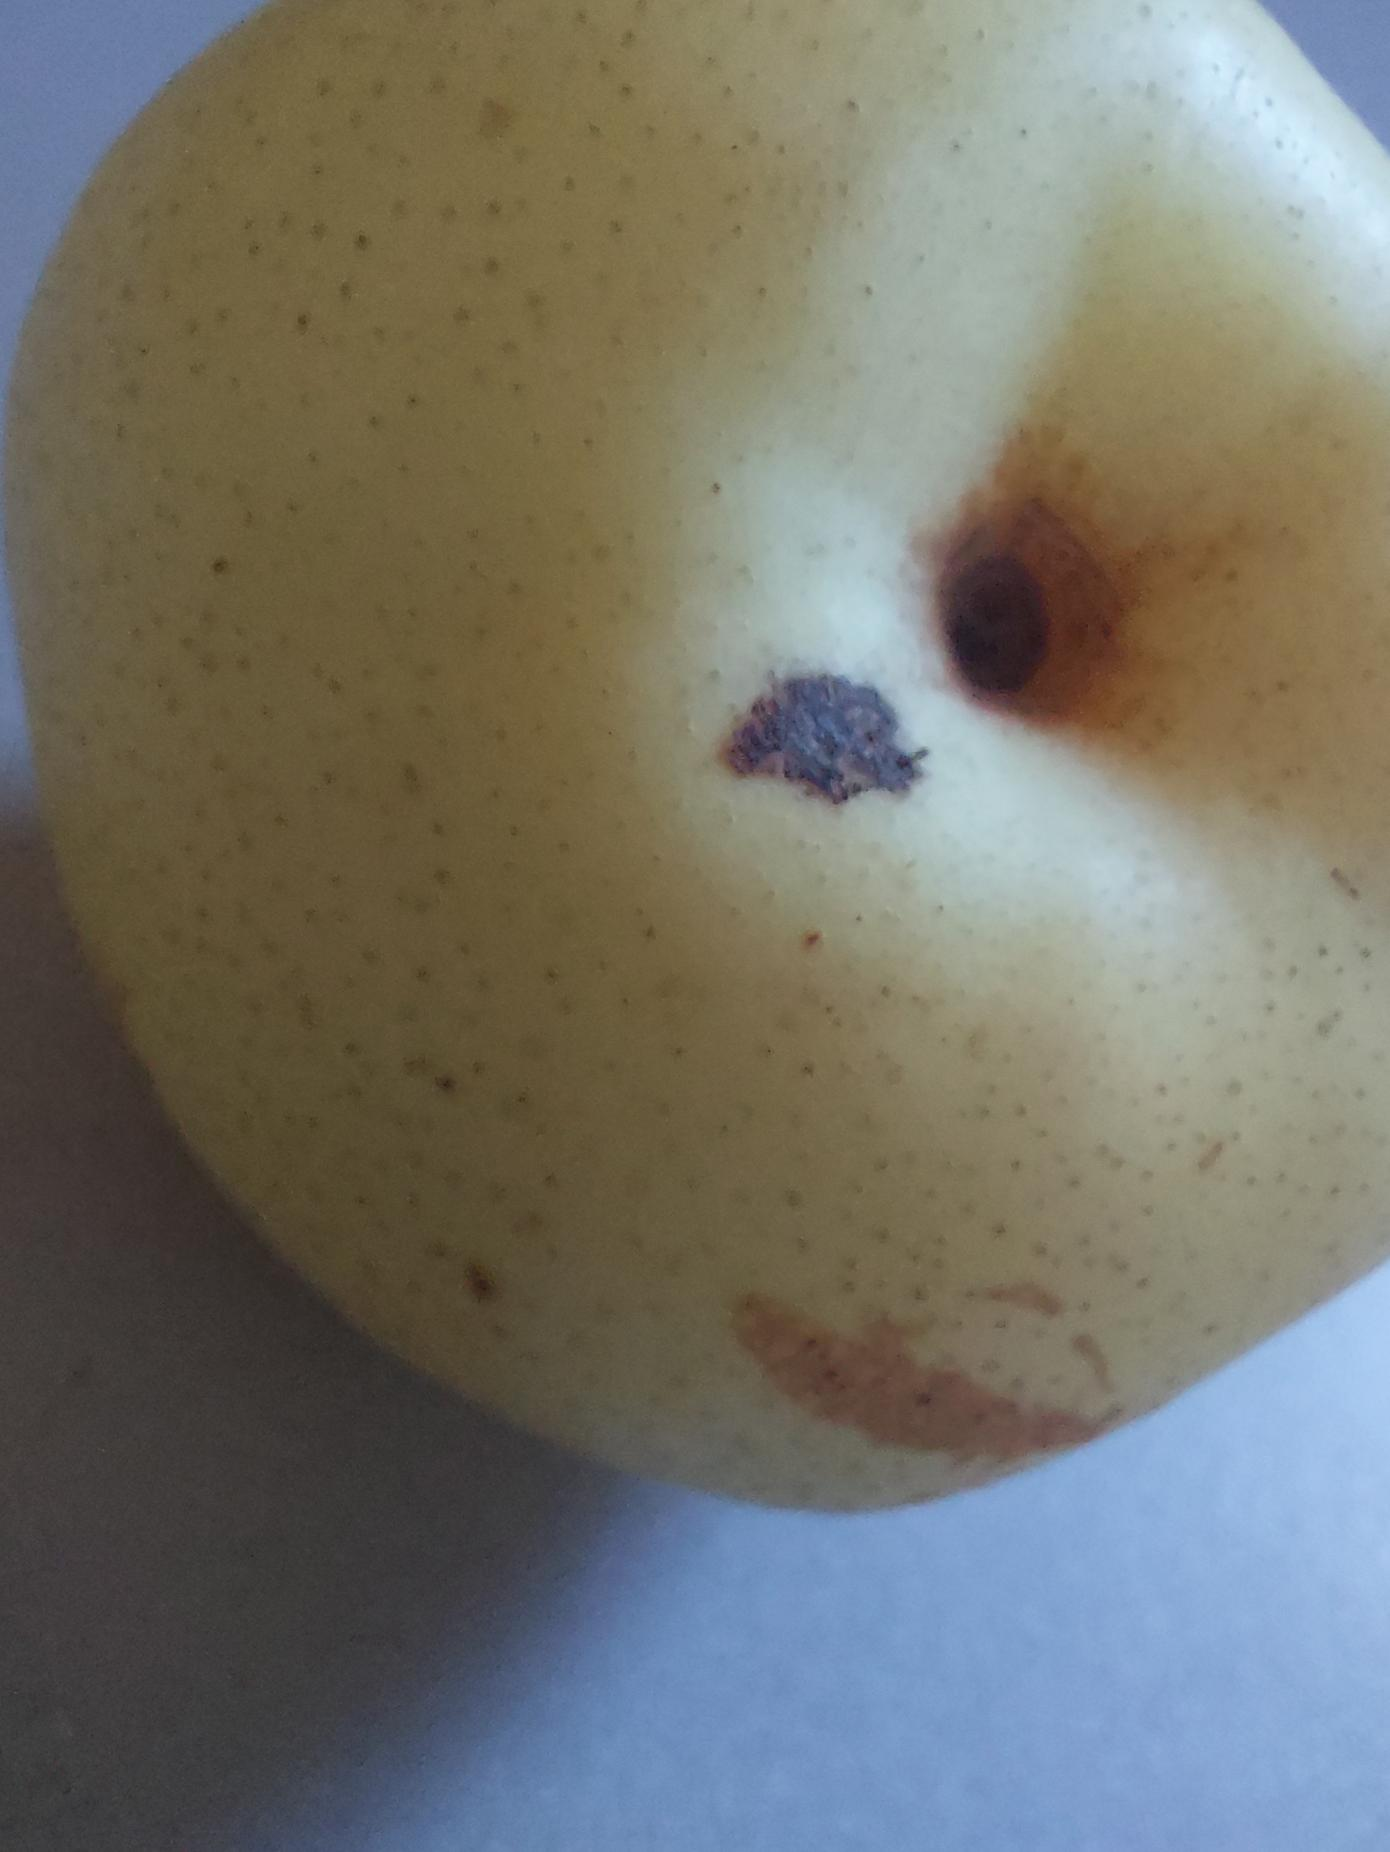Good Pear: (0, 0, 1390, 1600)
